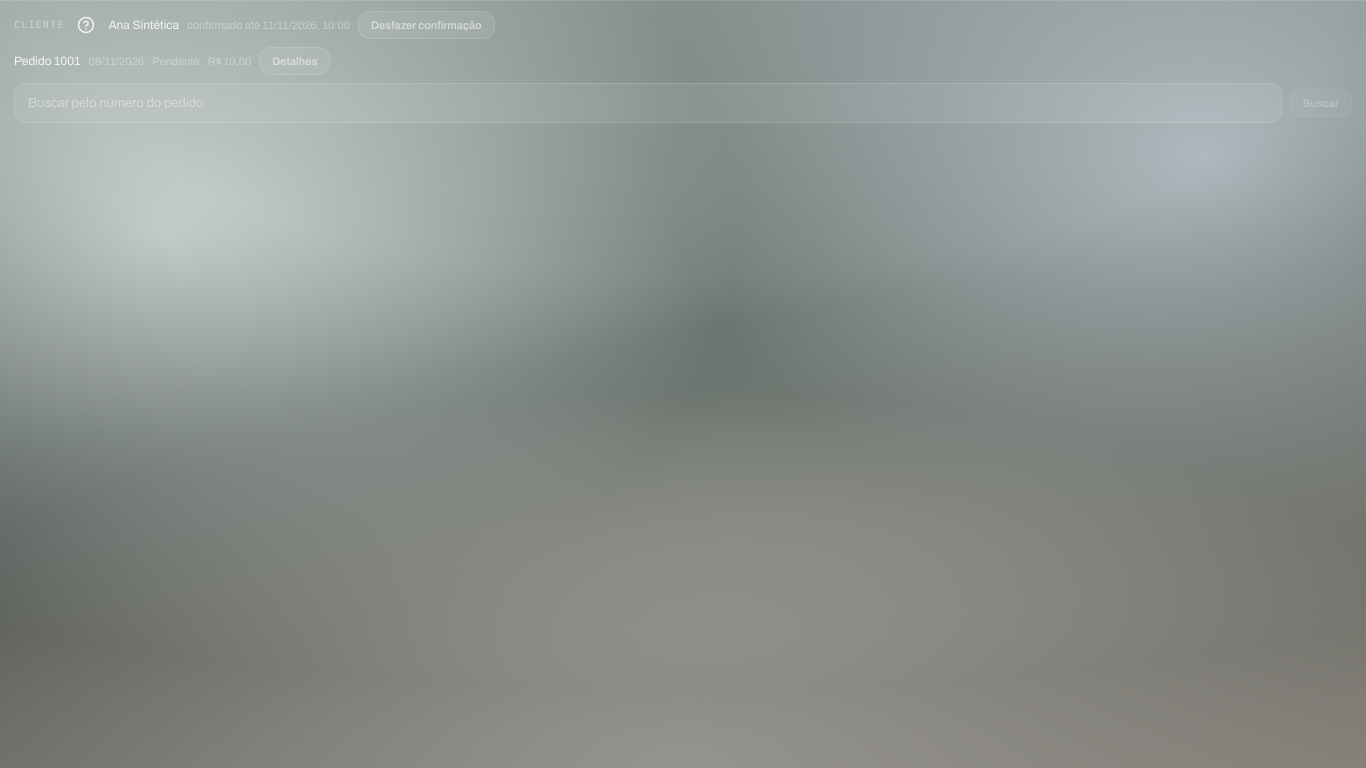
Scenario: PainelDoCliente — confirmar, consultar e desfazer › desfazer: pede a revogação e volta a não confirmado, sem pedidos na tela
This screenshot has width=1366, height=768.
Expected: the text "Pedido 1001" is shown, x1=14 y1=52 x2=80 y2=70
Click the button "Desfazer confirmação".
click(426, 25)  # box x1=358 y1=11 x2=495 y2=39
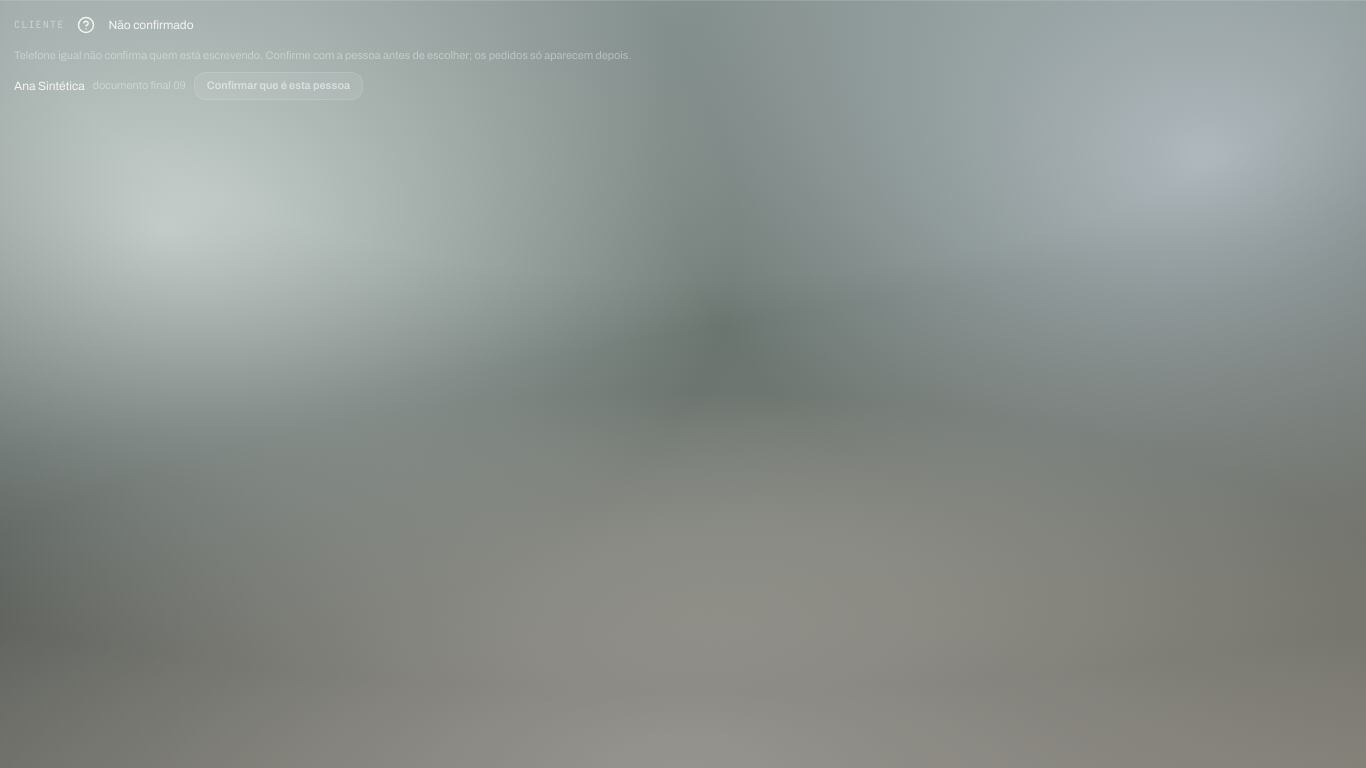
Expected: the text named "Cliente da conversa" reads "Não confirmado", x1=108 y1=18 x2=194 y2=32
Expected: the text "Pedido 1001" is gone
